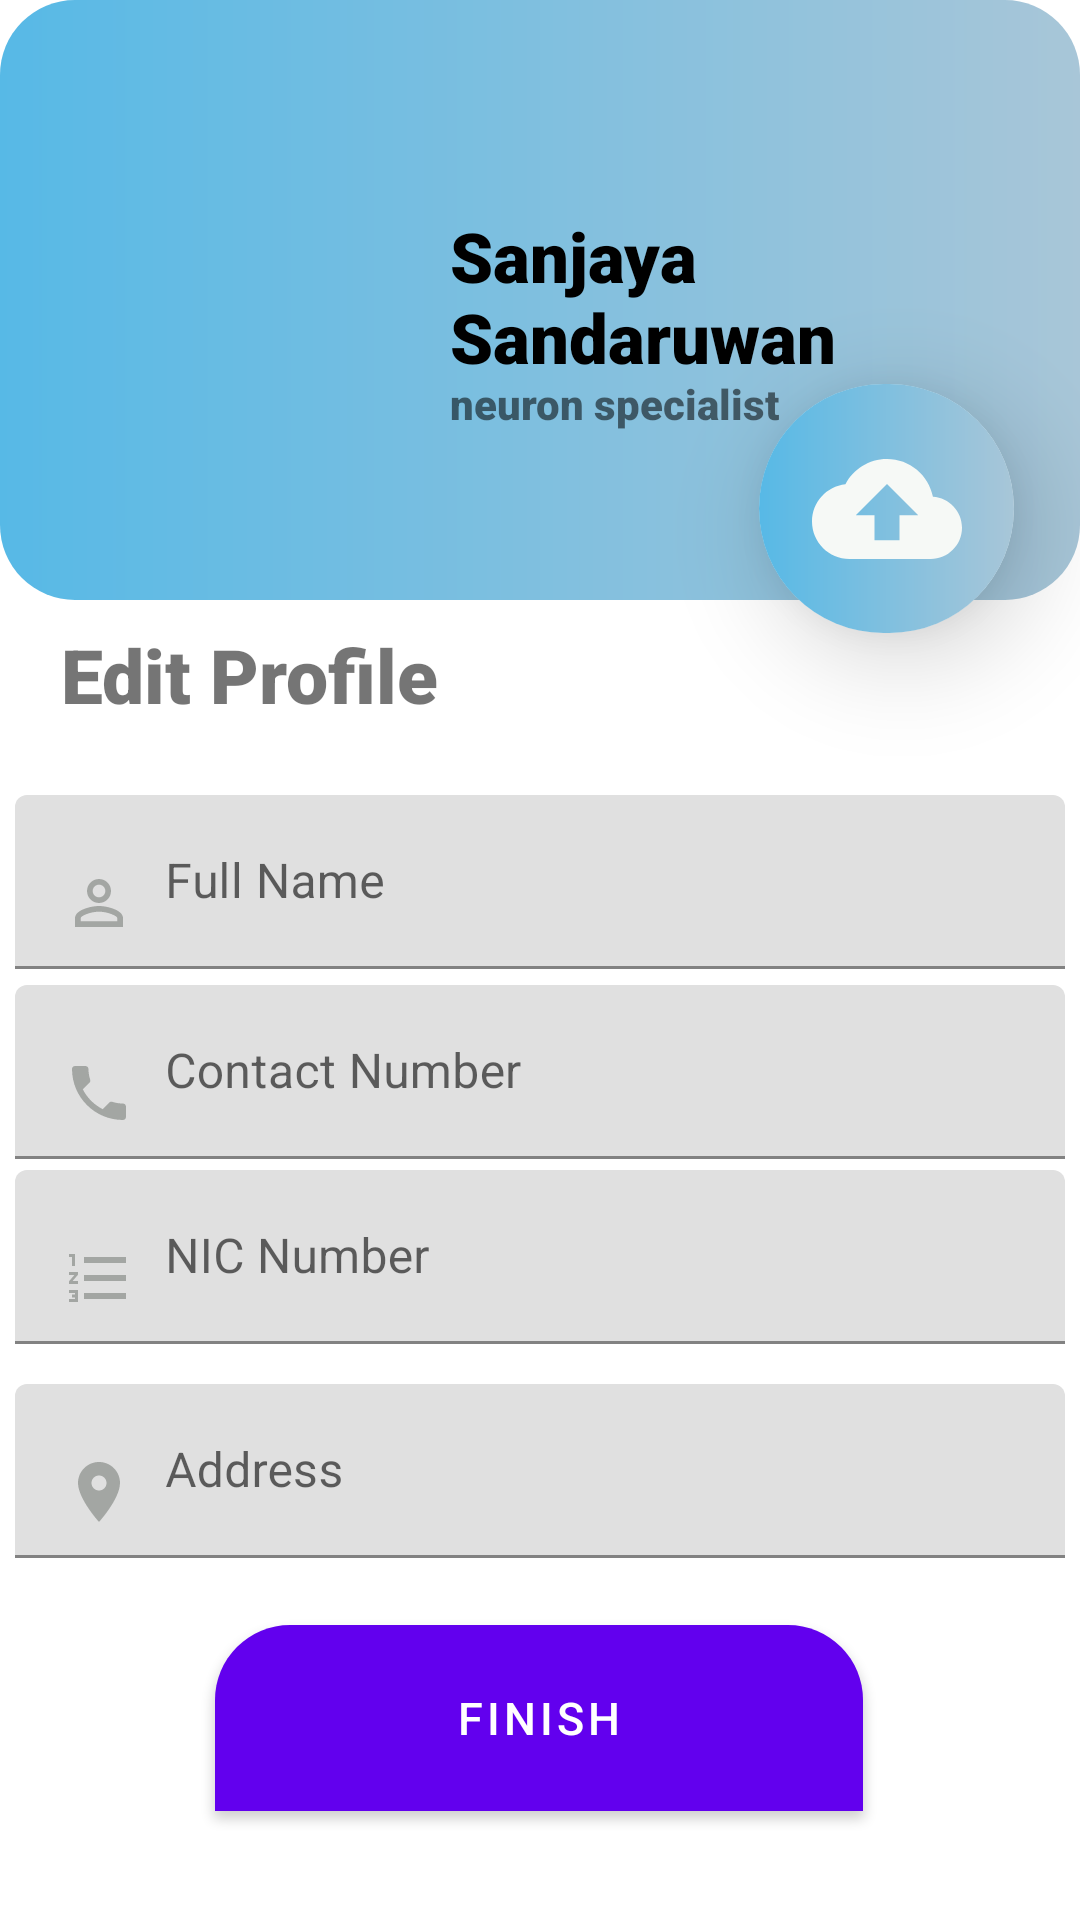

Where to tap for icons on this 1080×1920 app screen, as (x,y):
cloud upload: (886,508)
